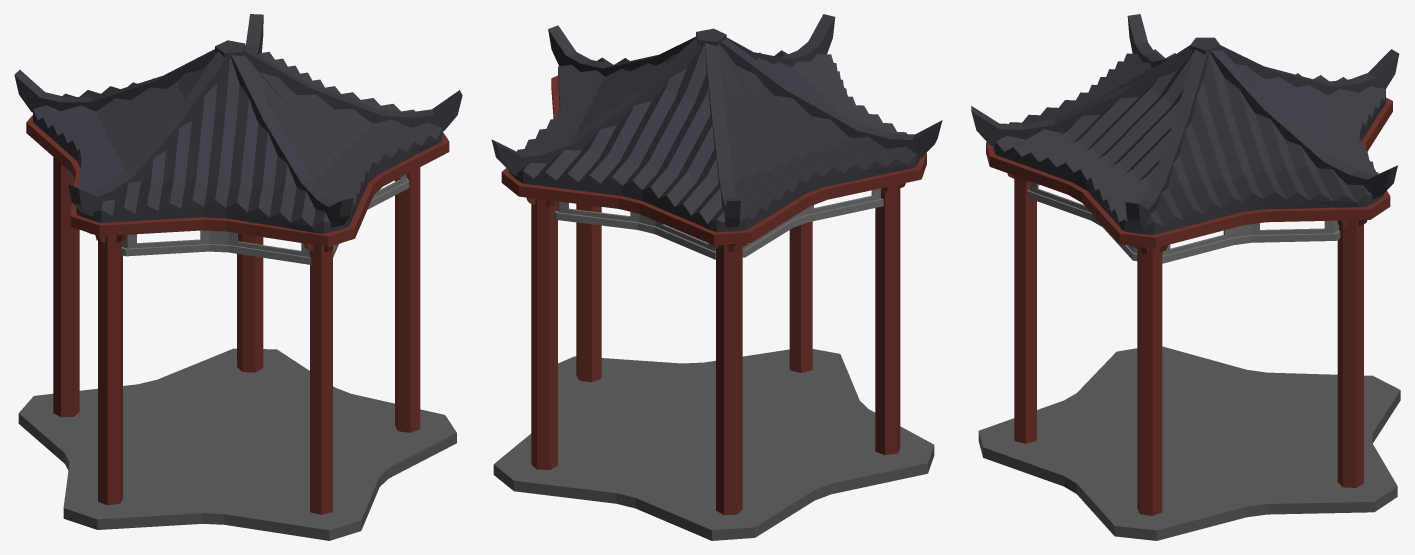
The model's file is 梅花亭.fbx.
3 renders of one model, left to right at view 1: azimuth 30°, elevation 25°; view 2: azimuth 150°, elevation 25°; view 3: azimuth 270°, elevation 25°, orthographic.
Visible parts, largest first — view 1: meihuating; view 2: meihuating; view 3: meihuating.
Part boxes in pixels (x1,y1,x2,y2): meihuating: (14,14,462,540); meihuating: (491,14,942,540); meihuating: (971,14,1400,540).
Size of the model in its own units: 440 by 438 by 420.
